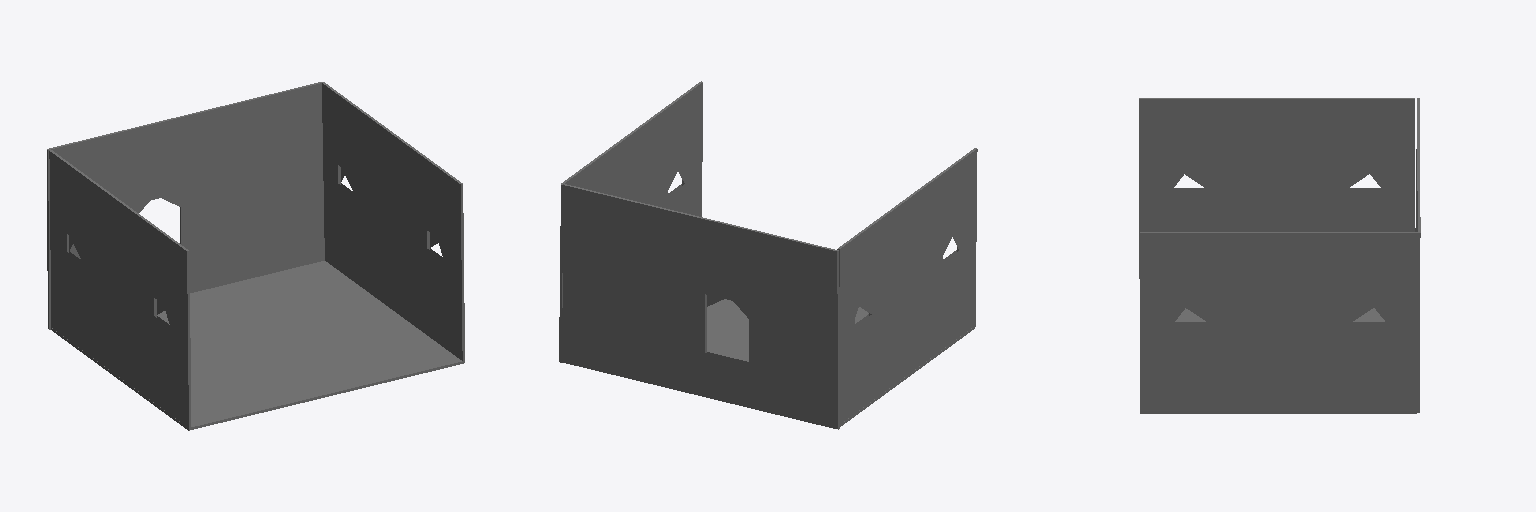
Rendered from room2.obj.
3 views of the same model, side by side, from view 1: azimuth 30°, elevation 25°; view 2: azimuth 150°, elevation 25°; view 3: azimuth 270°, elevation 25° (orthographic).
Parts seen in each view (by area): view 1: pasted__group2_pasted__group_pasted__pasted__pCube1 group25, pasted__pCube8 group26, pasted__pasted__group1_pasted__group_pasted__pasted__pCube1 past, pasted__group1_pasted__group_pasted__pasted__pCube1 group23; view 2: pasted__group2_pasted__group_pasted__pasted__pCube1 group25, pasted__group1_pasted__group_pasted__pasted__pCube1 group23, pasted__pasted__group1_pasted__group_pasted__pasted__pCube1 past, pasted__pCube8 group26; view 3: pasted__pasted__group1_pasted__group_pasted__pasted__pCube1 past, pasted__group1_pasted__group_pasted__pasted__pCube1 group23, pasted__pCube8 group26.
Boxes of the visible parts, box(x1,y1,x2,y2) form: pasted__group2_pasted__group_pasted__pasted__pCube1 group25: box(47, 82, 324, 329); pasted__pCube8 group26: box(51, 261, 464, 430); pasted__pasted__group1_pasted__group_pasted__pasted__pCube1 past: box(321, 82, 464, 362); pasted__group1_pasted__group_pasted__pasted__pCube1 group23: box(49, 150, 190, 429); pasted__group2_pasted__group_pasted__pasted__pCube1 group25: box(561, 184, 839, 429); pasted__group1_pasted__group_pasted__pasted__pCube1 group23: box(837, 148, 977, 423); pasted__pasted__group1_pasted__group_pasted__pasted__pCube1 past: box(559, 81, 702, 362); pasted__pCube8 group26: box(648, 299, 974, 428); pasted__pasted__group1_pasted__group_pasted__pasted__pCube1 past: box(1140, 232, 1419, 412); pasted__group1_pasted__group_pasted__pasted__pCube1 group23: box(1139, 98, 1414, 278); pasted__pCube8 group26: box(1140, 308, 1416, 413).
Size of the model in its own units: 31.83 by 19.66 by 27.82.